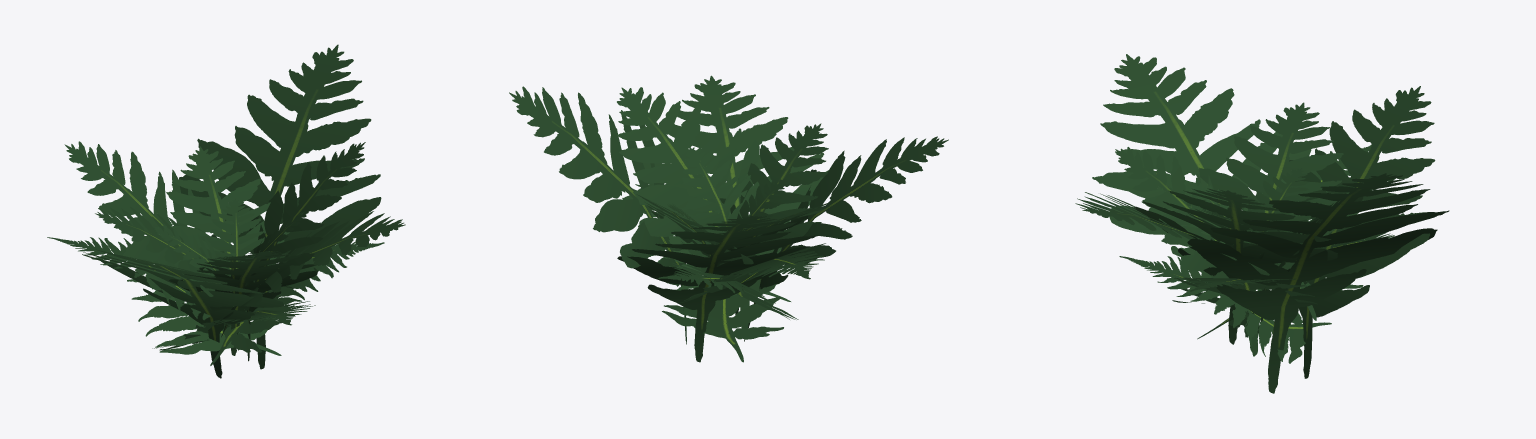
The model's file is Fern_2.fbx.
3 renders of one model, left to right at view 1: azimuth 30°, elevation 25°; view 2: azimuth 150°, elevation 25°; view 3: azimuth 270°, elevation 25°, orthographic. The views are drawn at different scales.
Parts seen in each view (by area): view 1: Fern_Bush_2; view 2: Fern_Bush_2; view 3: Fern_Bush_2.
Boxes of the visible parts, x1,y1,x2,y2 form: Fern_Bush_2: (47,44,405,378); Fern_Bush_2: (509,75,948,362); Fern_Bush_2: (1075,54,1449,393).
Bounding box in the file's own units: 2.6 × 1.69 × 2.4.
2 materials, 2 textured.
